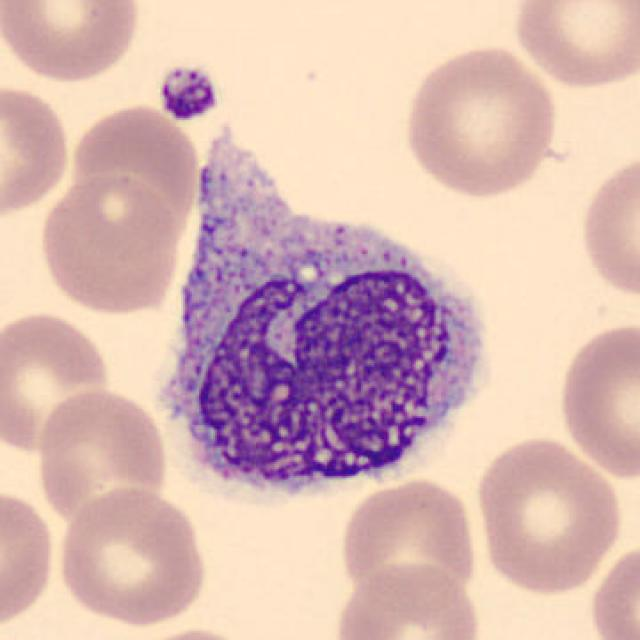Monocyte: (149, 171, 503, 522)
Platelets: (153, 62, 224, 123)
RBC: (398, 41, 562, 201), (471, 432, 626, 598), (54, 483, 212, 630), (35, 169, 185, 319), (32, 384, 171, 529), (66, 100, 202, 242), (336, 474, 482, 606), (0, 307, 116, 458), (554, 317, 640, 481), (331, 559, 485, 640), (0, 0, 146, 85), (508, 0, 638, 92), (0, 79, 75, 224), (574, 146, 640, 305), (0, 483, 60, 636), (585, 539, 640, 640)
